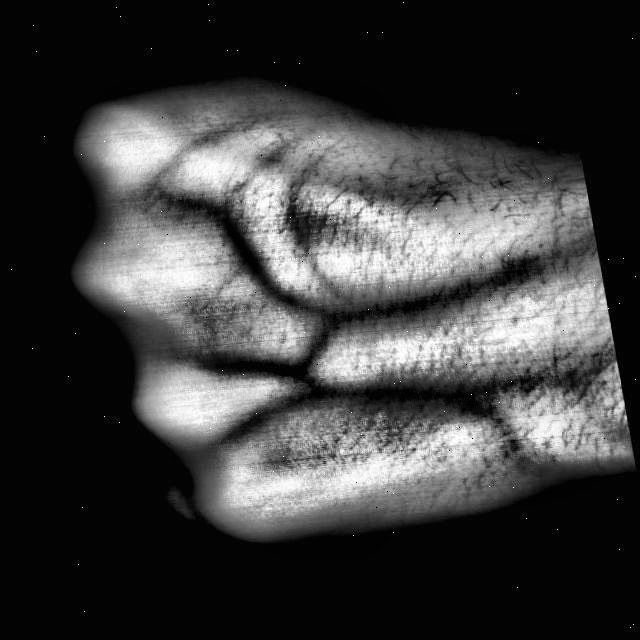Vein: (344, 248, 554, 329), (333, 364, 559, 405)
